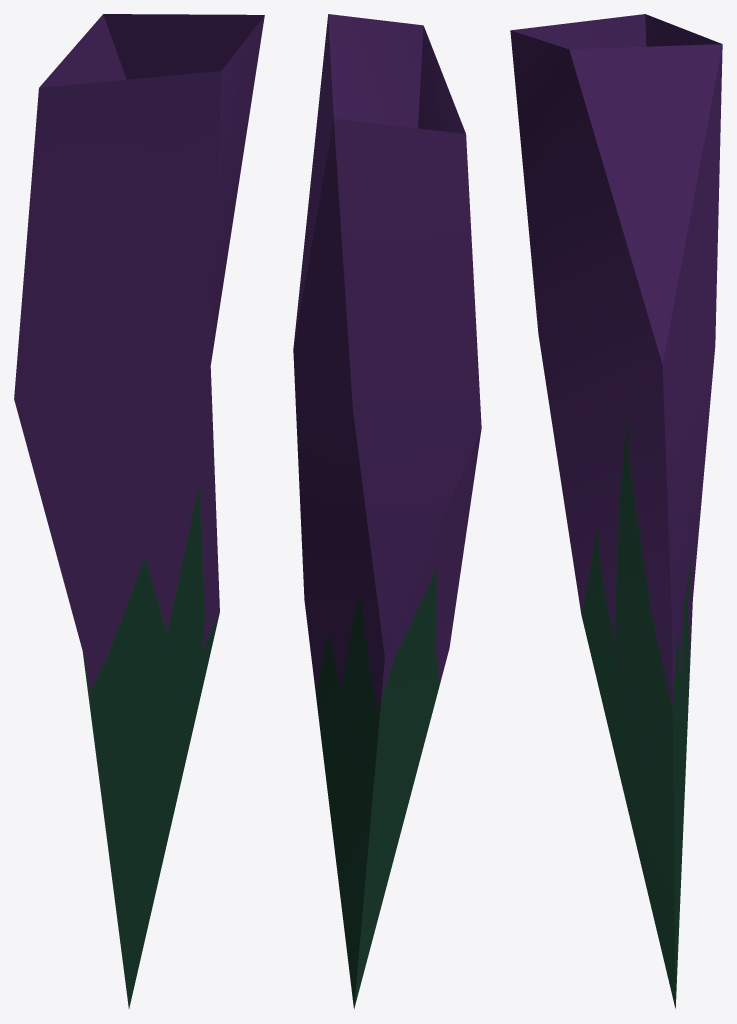
File: destroyable_stalagmite.FBX
3 renders of one model, left to right at view 1: azimuth 30°, elevation 25°; view 2: azimuth 150°, elevation 25°; view 3: azimuth 270°, elevation 25°, orthographic. The views are drawn at different scales.
Visible parts, largest first — view 1: Object023; view 2: Object023; view 3: Object023.
Boxes of the visible parts, x1=… form: Object023: x1=14, y1=14, x2=264, y2=1008; Object023: x1=293, y1=14, x2=481, y2=1009; Object023: x1=510, y1=14, x2=722, y2=1008.
Size of the model in its own units: 99.93 by 465 by 89.54.
